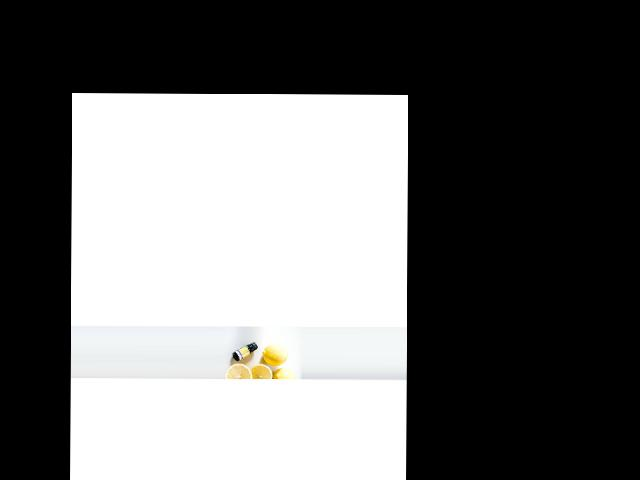lemon: (262, 346, 288, 363)
